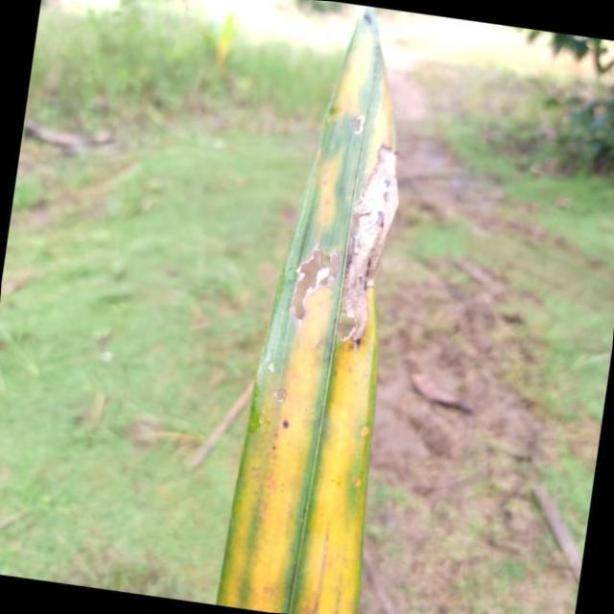Megnesium: (219, 0, 403, 614)
